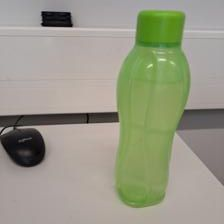bottle: (106, 8, 191, 209)
